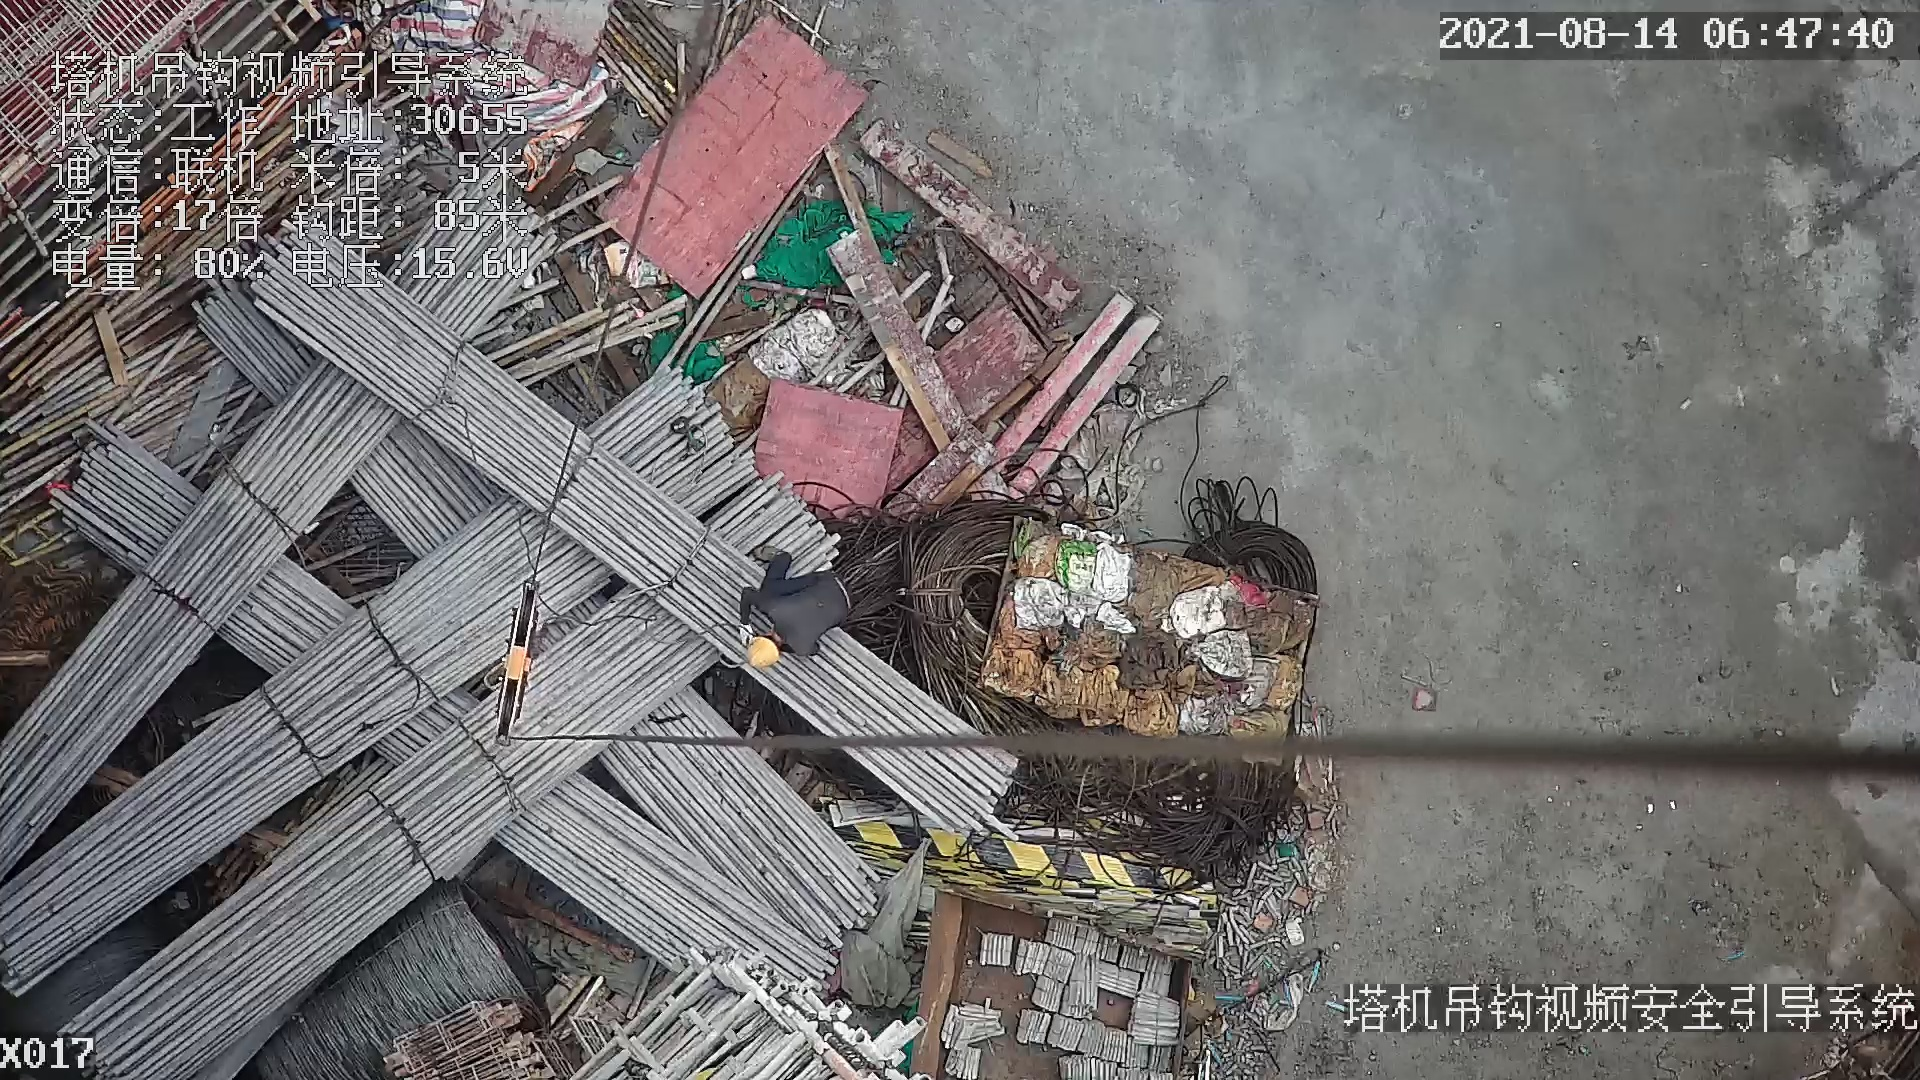board: (595, 9, 878, 301)
helmet: (744, 635, 781, 672)
hook: (483, 567, 545, 745)
person: (727, 544, 856, 665)
